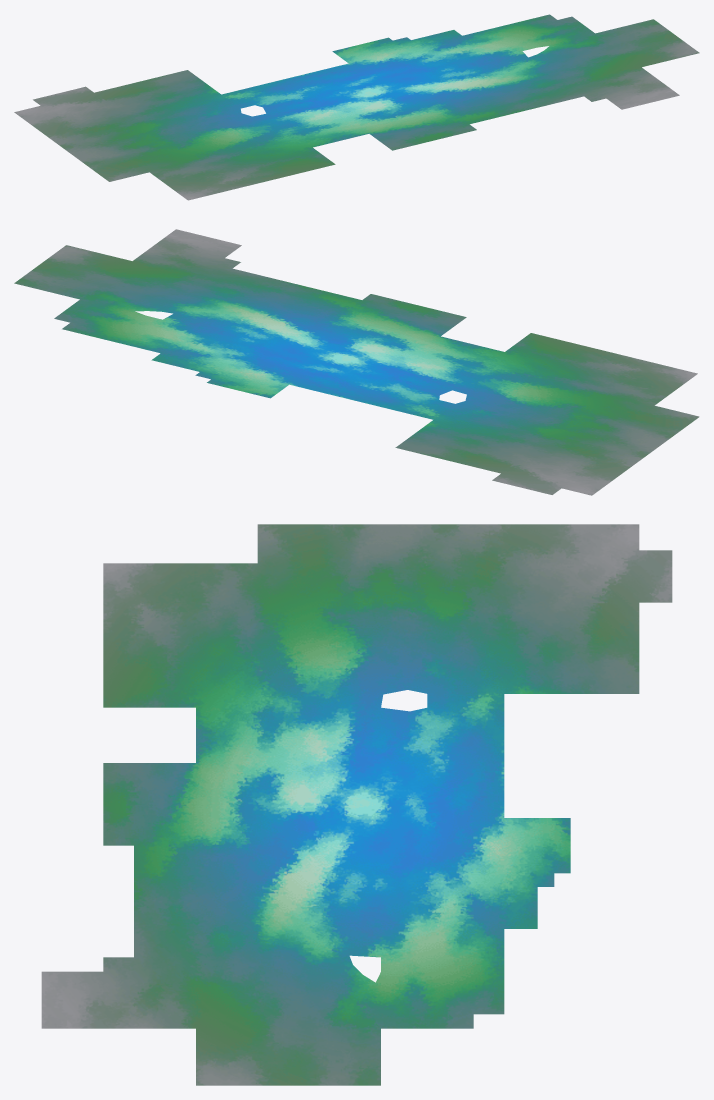
The model's file is Water.glb.
3 renders of one model, top to bottom at view 1: azimuth 30°, elevation 25°; view 2: azimuth 150°, elevation 25°; view 3: azimuth 270°, elevation 25°, orthographic. The views are drawn at different scales.
Visible parts, largest first — view 1: water.png__; view 2: water.png__; view 3: water.png__.
Boxes of the visible parts, x1,y1,x2,y2 form: water.png__: (14,14,699,200); water.png__: (14,229,698,495); water.png__: (41,524,672,1085).
Bounding box in the file's own units: 200 × 0 × 95.18.
1 material, 1 textured.
